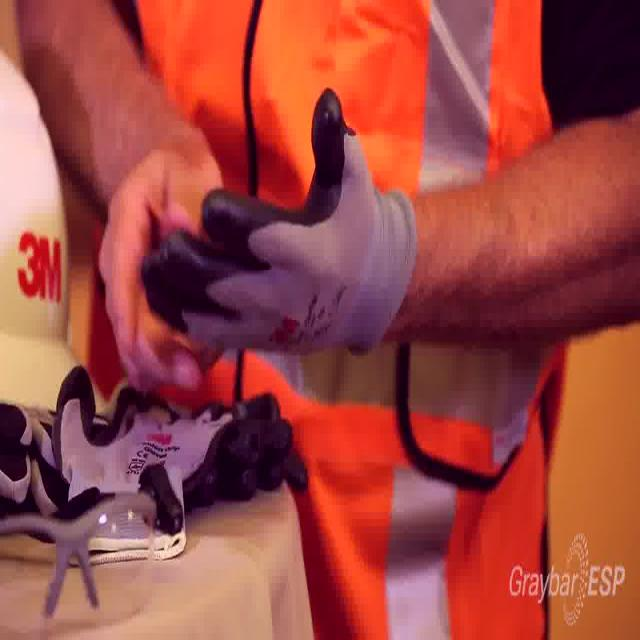gloves: (142, 76, 425, 364)
